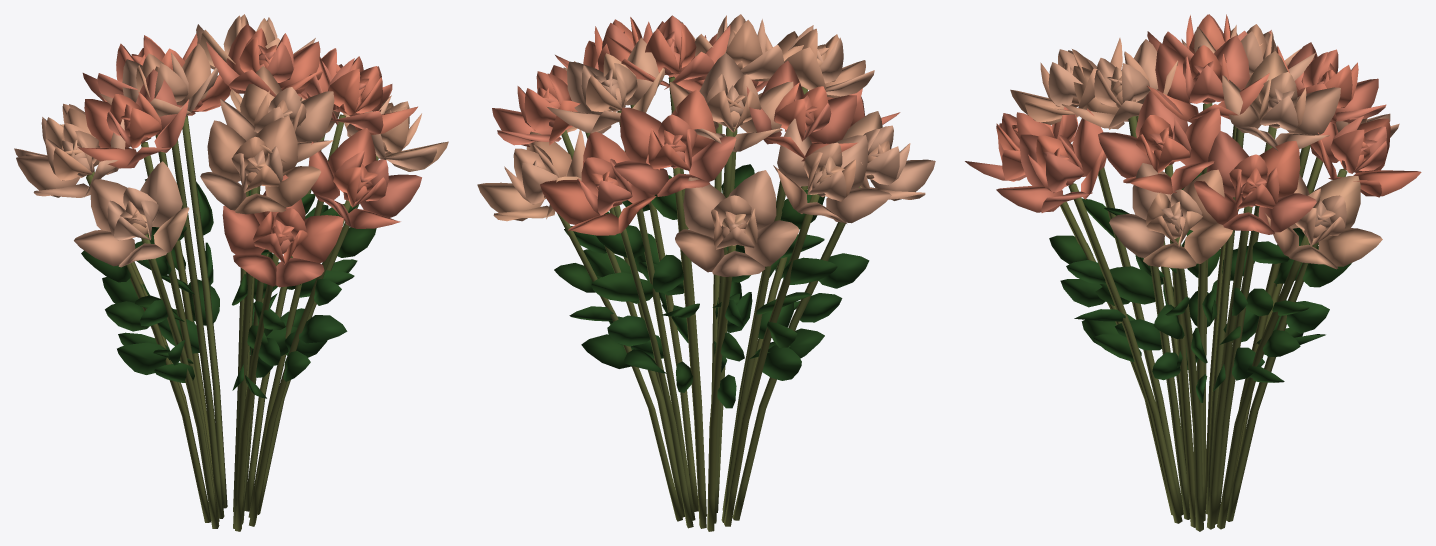
Rendered from bucket_roses_peach.glb.
3 renders of one model, left to right at view 1: azimuth 30°, elevation 25°; view 2: azimuth 150°, elevation 25°; view 3: azimuth 270°, elevation 25°, orthographic. The views are drawn at different scales.
Visible parts, largest first — view 1: Sammel Pflanze, Sammel Putz; view 2: Sammel Pflanze, Sammel Putz; view 3: Sammel Pflanze, Sammel Putz.
Boxes of the visible parts, x1,y1,x2,y2 form: Sammel Pflanze: [14, 14, 448, 398]; Sammel Putz: [86, 114, 378, 531]; Sammel Pflanze: [477, 14, 935, 408]; Sammel Putz: [557, 76, 860, 531]; Sammel Pflanze: [965, 14, 1421, 402]; Sammel Putz: [1060, 103, 1347, 531].
Bounding box in the file's own units: 0.4686 × 0.5519 × 0.4705.
